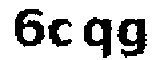6: (11, 3, 47, 54)
c: (47, 14, 76, 51)
g: (118, 14, 149, 60)
q: (82, 12, 115, 60)
